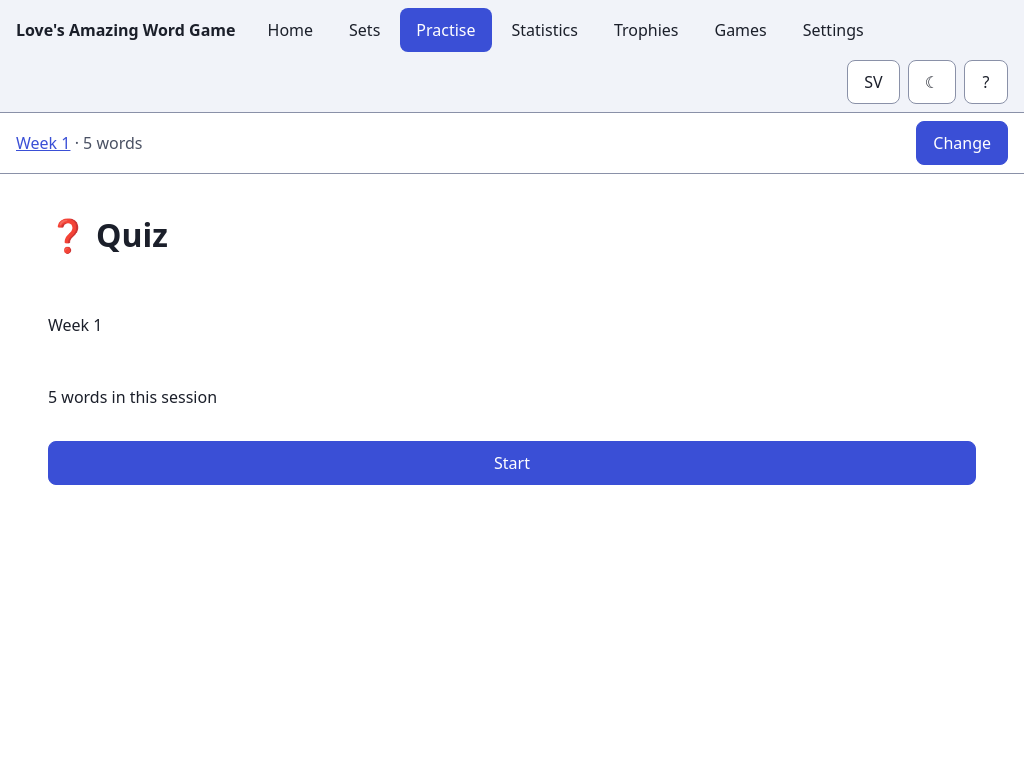
Test: quiz mode › FR-QZ-2: chooses with the number keys
Click the button "Start": (512, 463) [48,441,976,485]
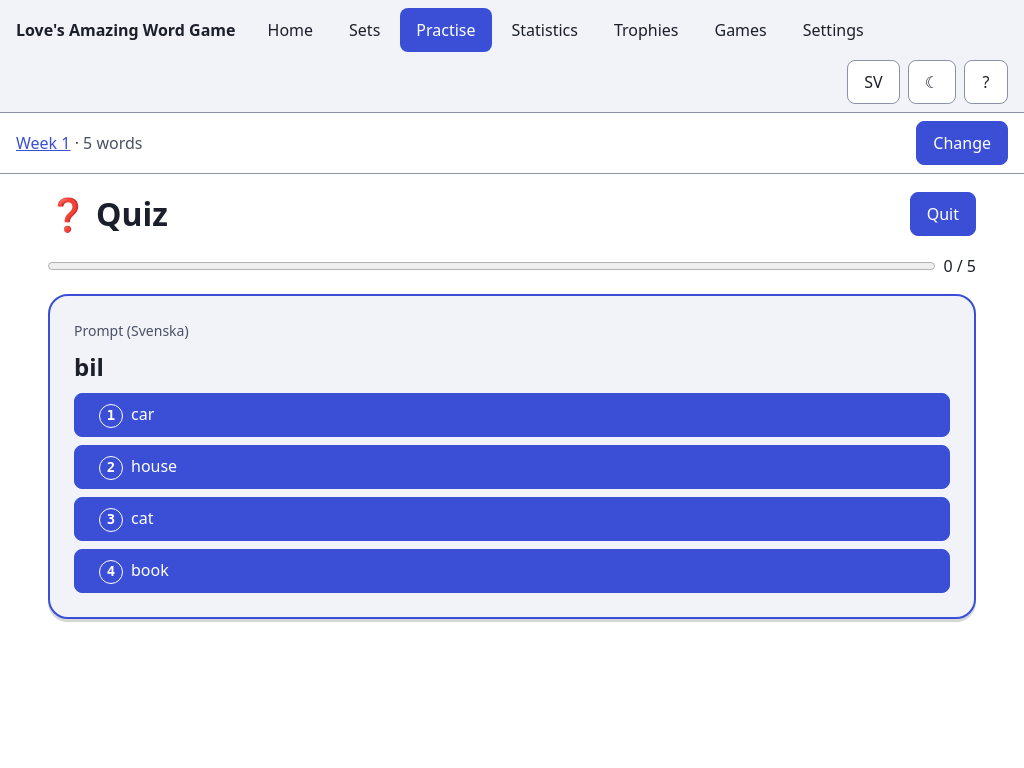
Type keys "1"
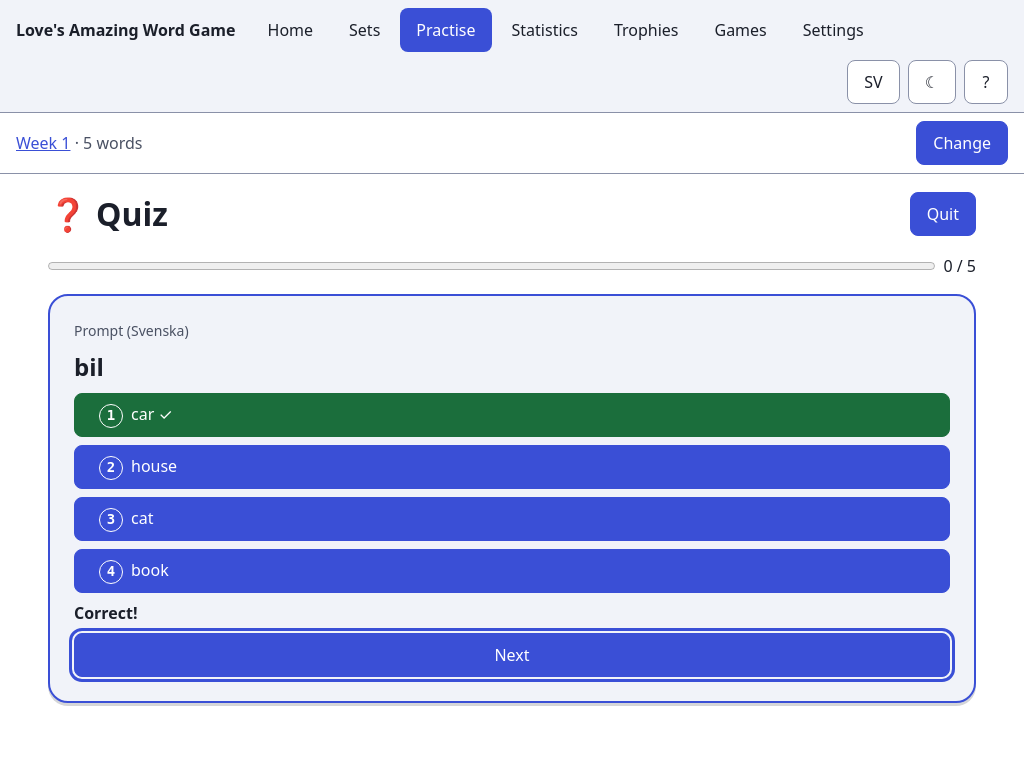
Result: the text "Correct!" is shown at [74,602,138,624]
